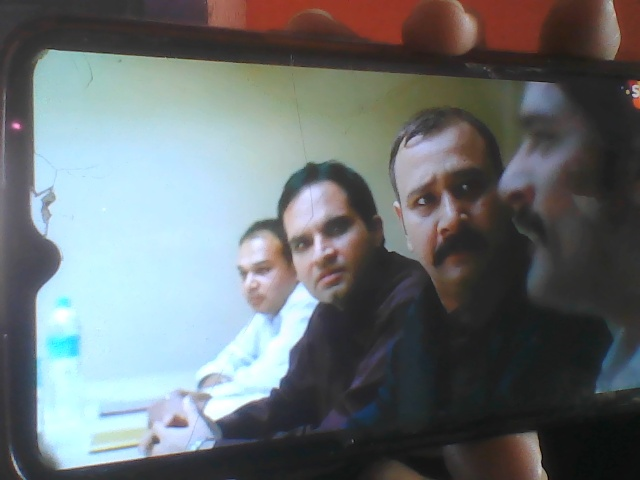fake: (387, 78, 552, 312), (274, 151, 388, 312)
